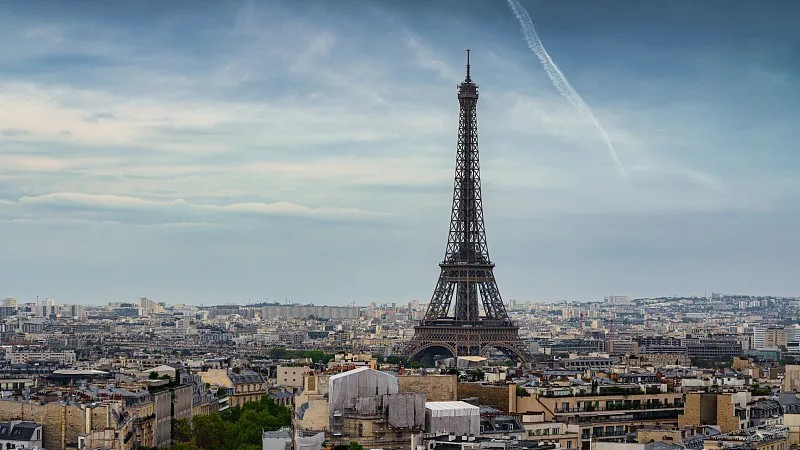Eiffel: (401, 49, 532, 366)
